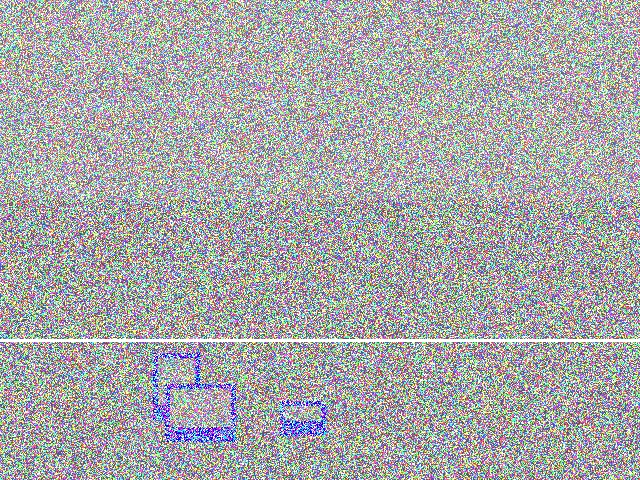truck: (41, 235, 157, 337)
